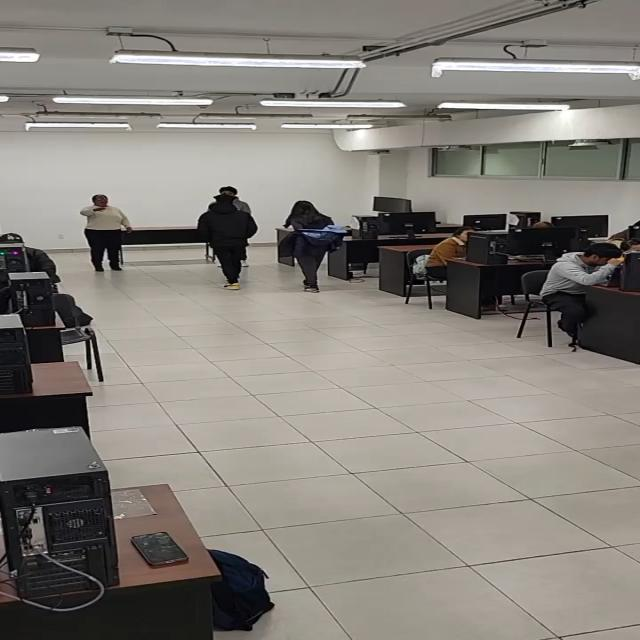Persona: (278, 200, 349, 294), (196, 194, 259, 290), (80, 194, 133, 272)
